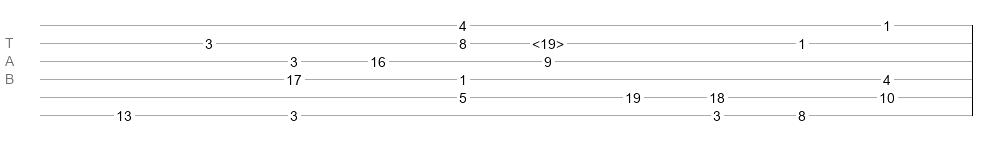1: (459, 72, 467, 82), (798, 36, 806, 46), (883, 18, 891, 28)
10: (879, 90, 895, 100)
13: (116, 108, 132, 118)
16: (370, 54, 386, 64)
17: (286, 72, 302, 82)
18: (709, 90, 725, 100)
19: (625, 90, 641, 100)
3: (205, 36, 213, 46), (290, 108, 298, 118), (290, 54, 298, 64), (713, 108, 721, 118)
4: (459, 18, 467, 28), (883, 72, 891, 82)
5: (459, 90, 467, 100)
8: (459, 36, 467, 46), (798, 108, 806, 118)
9: (544, 54, 552, 64)
harmonic: (532, 36, 564, 46)
